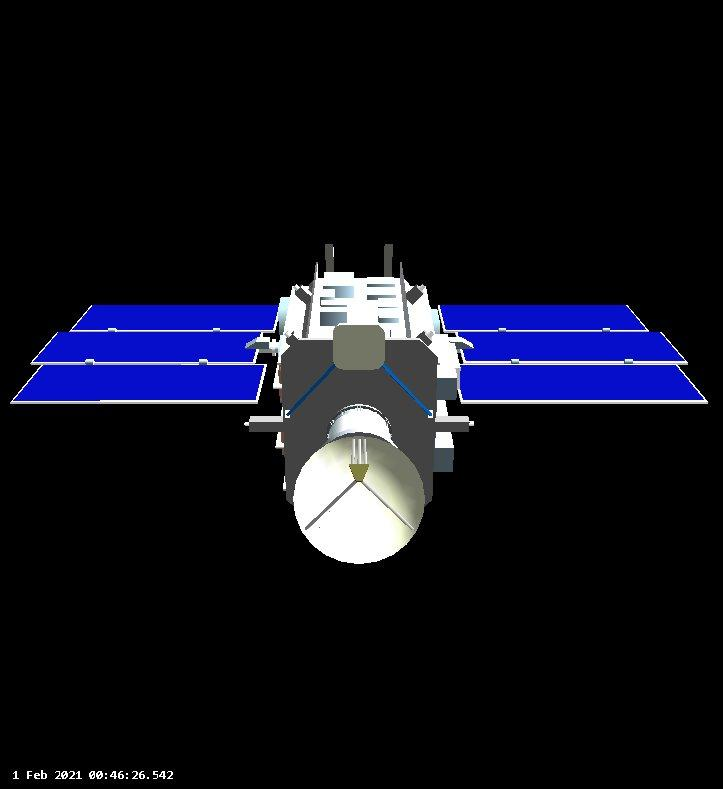antenna: (292, 432, 427, 564)
body: (279, 268, 455, 518)
solar: (6, 362, 268, 404), (457, 361, 708, 401), (458, 327, 689, 368), (29, 328, 261, 367), (67, 302, 280, 335), (435, 300, 650, 331)
